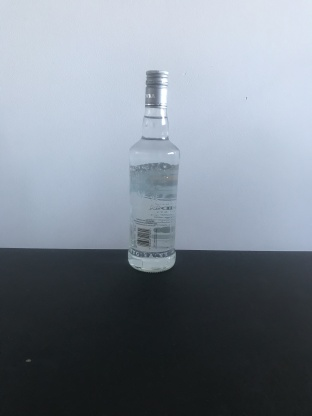nakretka: (143, 66, 170, 110)
